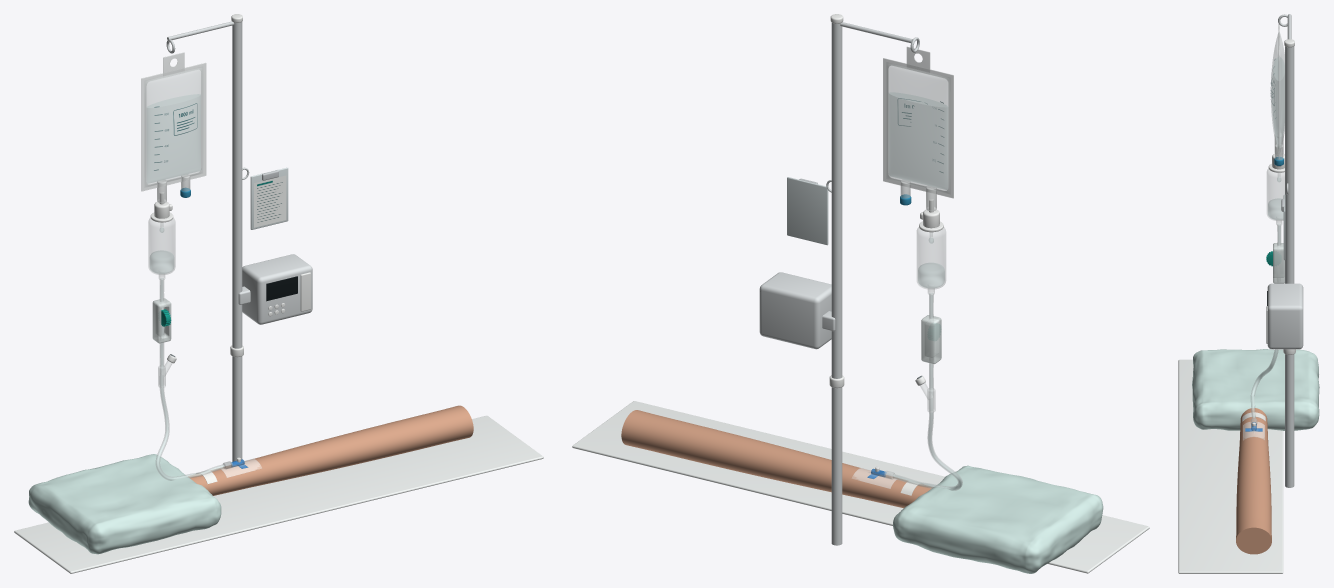
File: iv-set.glb
The picture shows the model from 3 angles, left to right: view 1: azimuth 30°, elevation 25°; view 2: azimuth 150°, elevation 25°; view 3: azimuth 270°, elevation 25°; orthographic projection. The views are drawn at different scales.
Visible parts, largest first — view 1: Sheet, Blanket, Forearm, BagShell, PoleShaft, BagFluid, PumpBody, BagSeal, PaperSheet, ChamberWall, Tube, ClampHousing; view 2: Blanket, Sheet, Forearm, BagShell, PoleShaft, BagFluid, PumpBody, Board, BagSeal, ChamberWall, Tube, ClampHousing; view 3: Sheet, Blanket, Forearm, PoleShaft, PumpBody, BagShell, BagFluid, ChamberWall, ClampHousing, Tube, Dressing, DripPool (+2 smaller).
Part boxes in pixels (box(x1,y1,x2,y2)): Sheet: box(14, 415, 543, 573); Blanket: box(28, 454, 221, 554); Forearm: box(188, 405, 473, 495); BagShell: box(144, 67, 202, 187); PoleShaft: box(232, 22, 242, 461); BagFluid: box(147, 94, 200, 183); PumpBody: box(242, 254, 312, 324); BagSeal: box(141, 62, 206, 191); PaperSheet: box(254, 175, 286, 227); ChamberWall: box(148, 218, 175, 274); Tube: box(155, 278, 224, 480); ClampHousing: box(152, 298, 171, 343); Blanket: box(893, 465, 1103, 573); Sheet: box(572, 401, 1149, 573); Forearm: box(621, 410, 932, 508); BagShell: box(886, 62, 950, 193); PoleShaft: box(831, 23, 842, 545); BagFluid: box(889, 92, 947, 189); PumpBody: box(759, 272, 831, 349); Board: box(787, 177, 828, 245); BagSeal: box(883, 58, 953, 198); ChamberWall: box(917, 227, 945, 289); Tube: box(892, 293, 962, 490); ClampHousing: box(921, 315, 941, 364); Sheet: box(1178, 359, 1283, 573); Blanket: box(1192, 349, 1319, 430); Forearm: box(1236, 408, 1271, 554); PoleShaft: box(1285, 46, 1294, 487); PumpBody: box(1267, 283, 1303, 349); BagShell: box(1270, 33, 1284, 153); BagFluid: box(1272, 57, 1284, 147); ChamberWall: box(1267, 168, 1284, 220); ClampHousing: box(1273, 243, 1284, 283); Tube: box(1250, 224, 1281, 417); Dressing: box(1243, 422, 1264, 440); DripPool: box(1268, 198, 1283, 219).
Bounding box in the file's own units: 12 × 11.7 × 3.36.
Materials: 23 (2 with a texture image).
